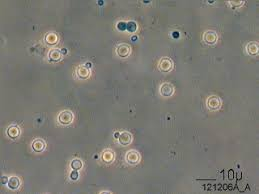Malaria: (158, 56, 174, 75), (58, 109, 75, 126), (125, 148, 142, 165), (6, 125, 22, 141), (102, 151, 119, 166), (31, 138, 46, 154), (202, 31, 218, 46), (117, 132, 134, 146), (42, 31, 59, 44), (160, 82, 175, 96), (207, 96, 222, 110), (116, 45, 131, 59), (245, 42, 259, 57), (69, 158, 83, 170), (9, 176, 21, 188)
